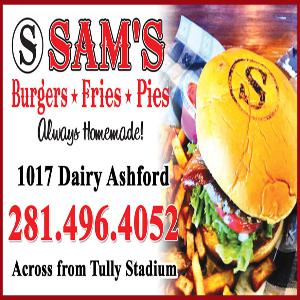cheeseburger_475cal: (184, 47, 300, 292)
